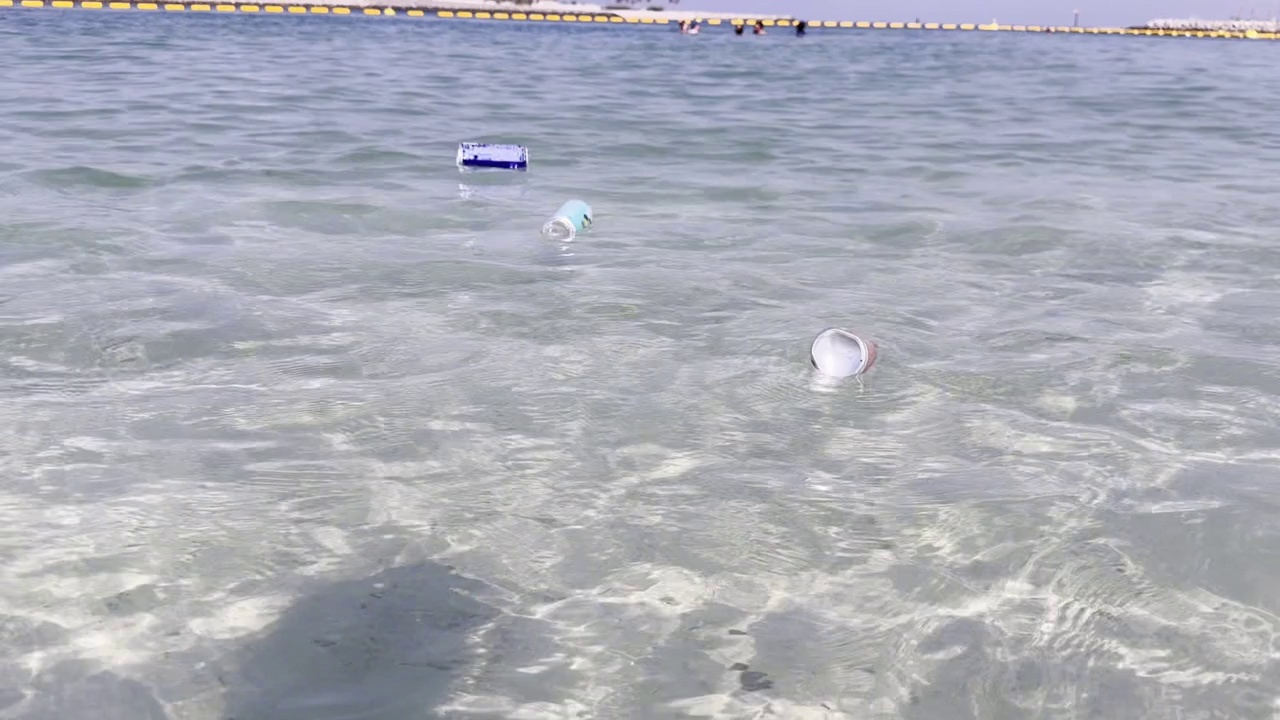debris: (808, 316, 884, 385), (535, 195, 596, 252), (452, 138, 536, 177)
